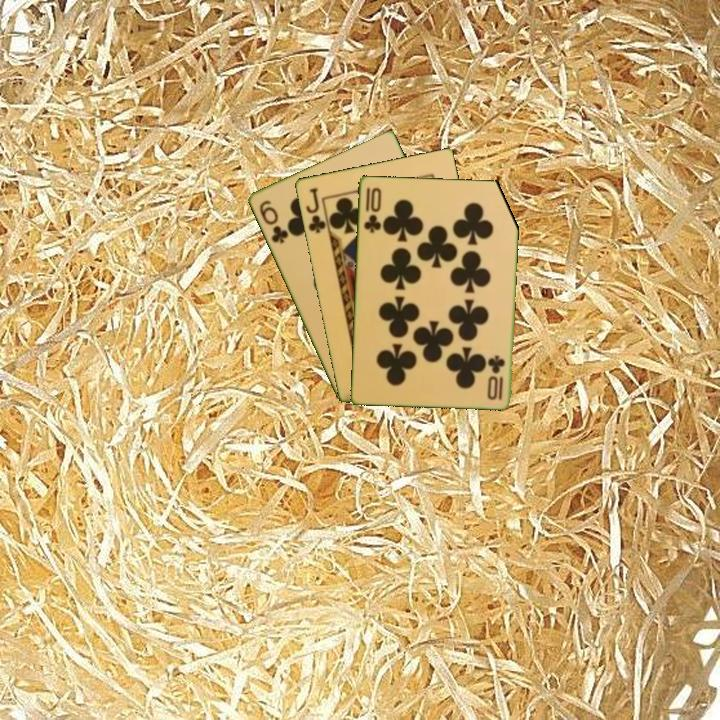10c: (360, 183, 384, 236), (485, 351, 508, 403)
6c: (255, 196, 291, 246)
Jc: (302, 184, 328, 236)
